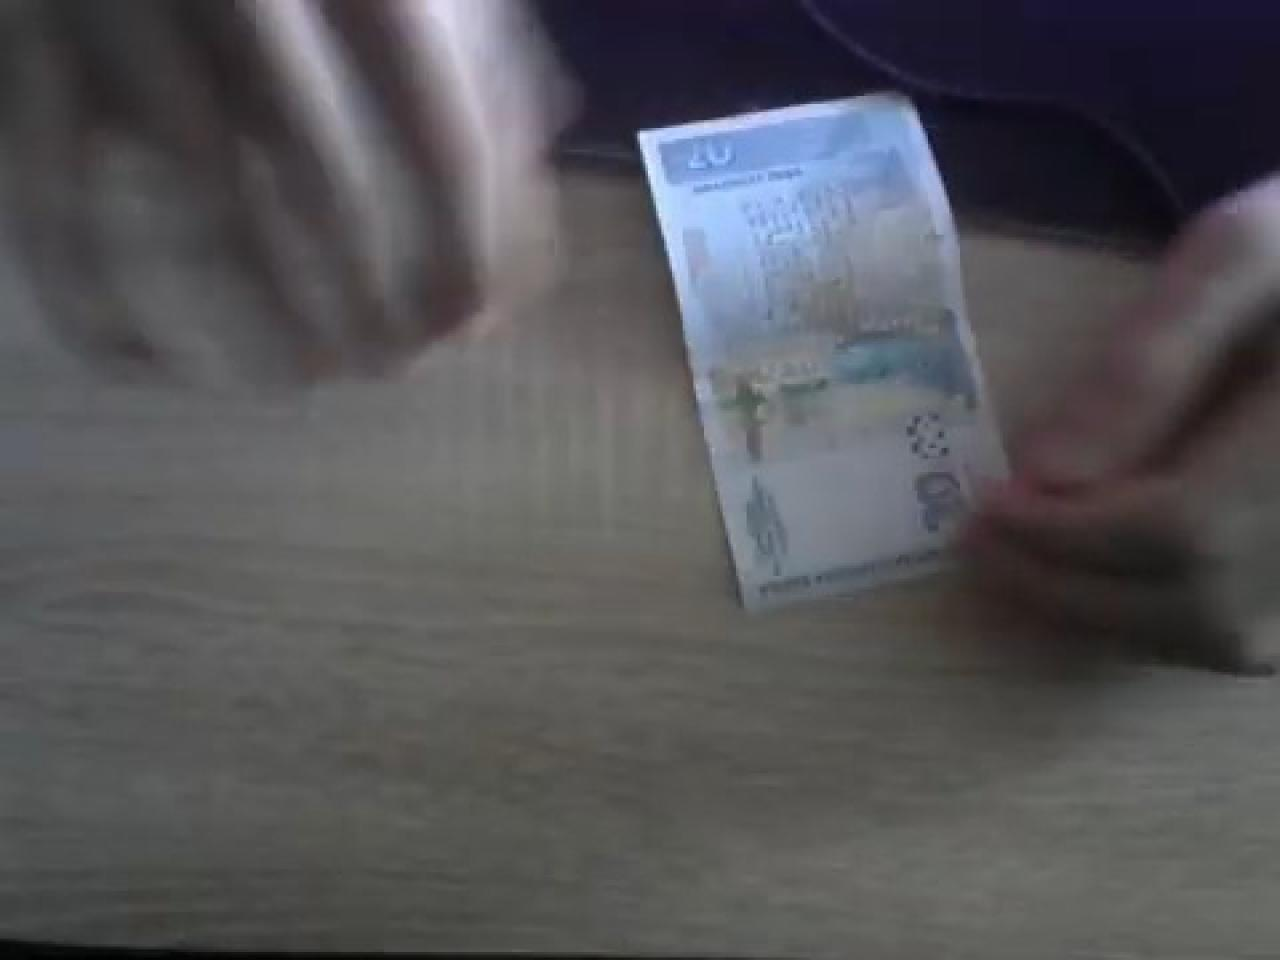20leva: (635, 86, 1016, 613)
